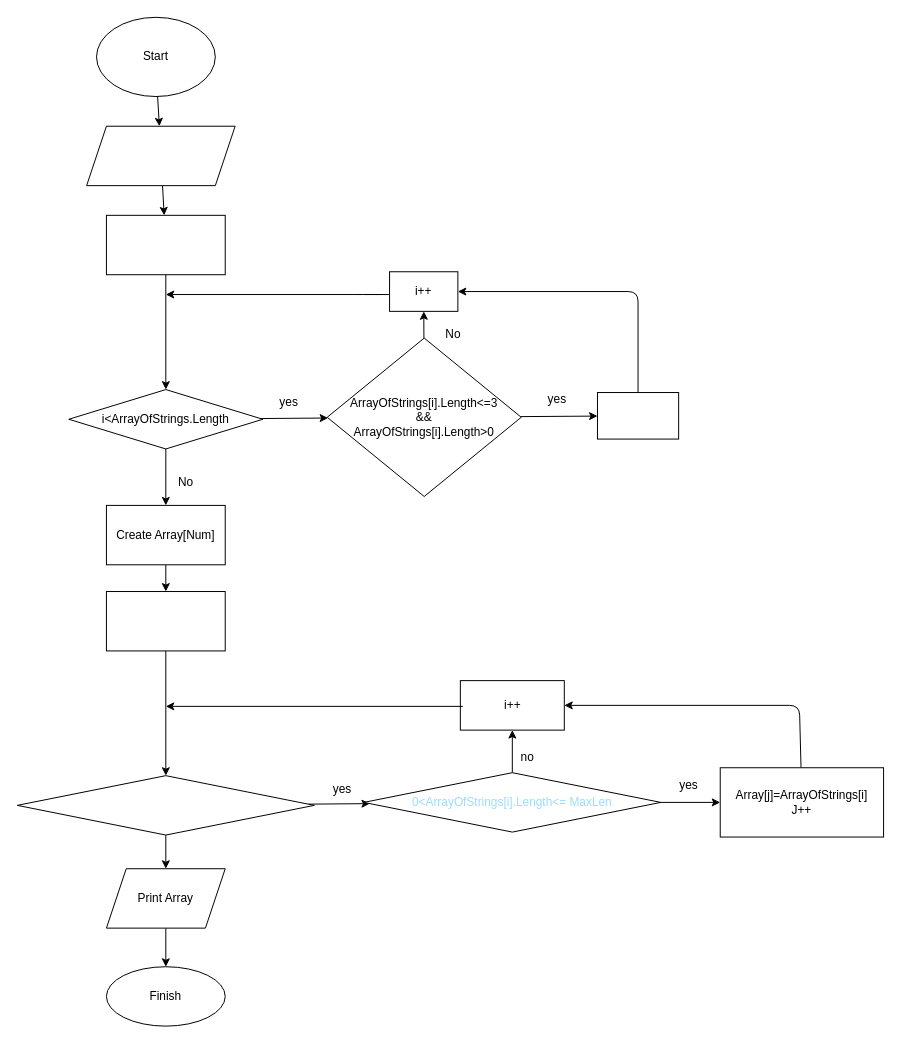
This 901x1043 diagram has some shape labels left out. Each missing label, with the centre of its shape:
i< ArrayOfStrings.Length && j<Number: point 165,805
Input MaxLen, ArrayOfStrings: point 160,155
int i=0 int Num = 0: point 165,244
int j=0 i=0: point 165,621
Num++: point 637,415
